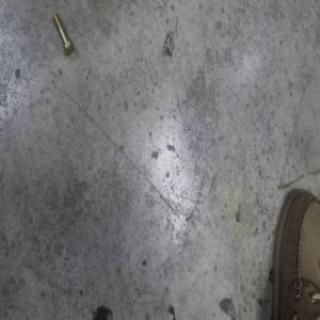Bolttrack_idkeyframe: (51, 13, 73, 59)
